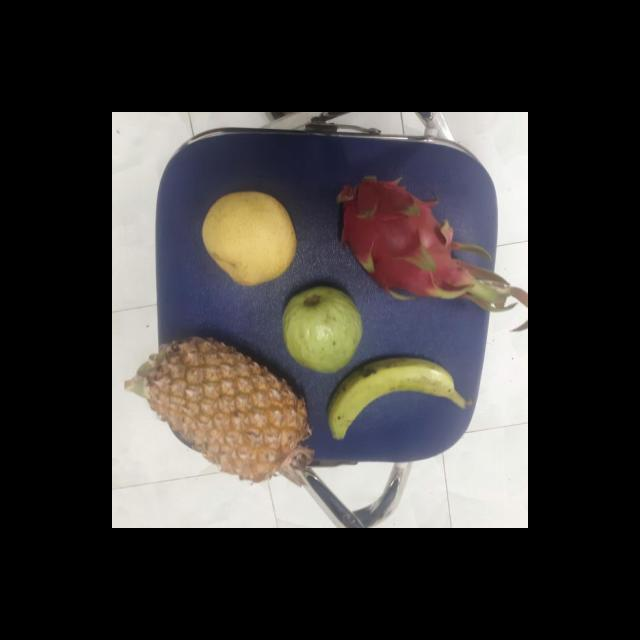banana: (320, 356, 458, 439)
guava: (277, 286, 364, 372)
pear: (197, 192, 296, 288)
pineapple: (134, 334, 304, 476)
pitaya: (331, 178, 468, 304)
